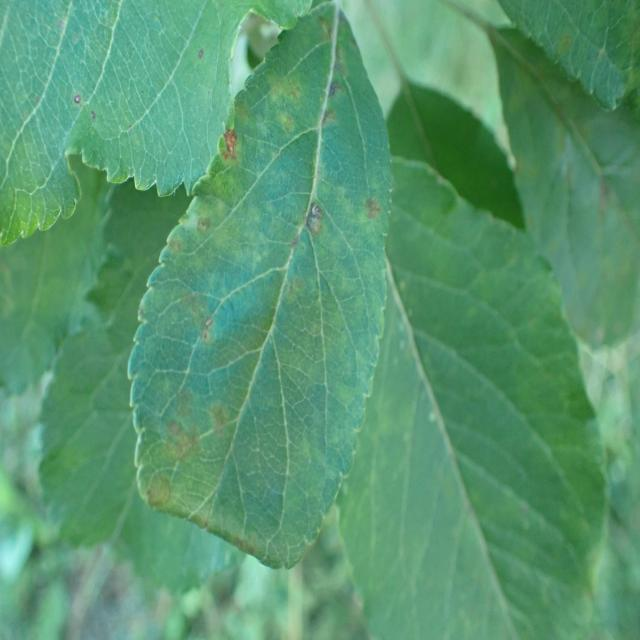scab: (145, 19, 395, 556)
